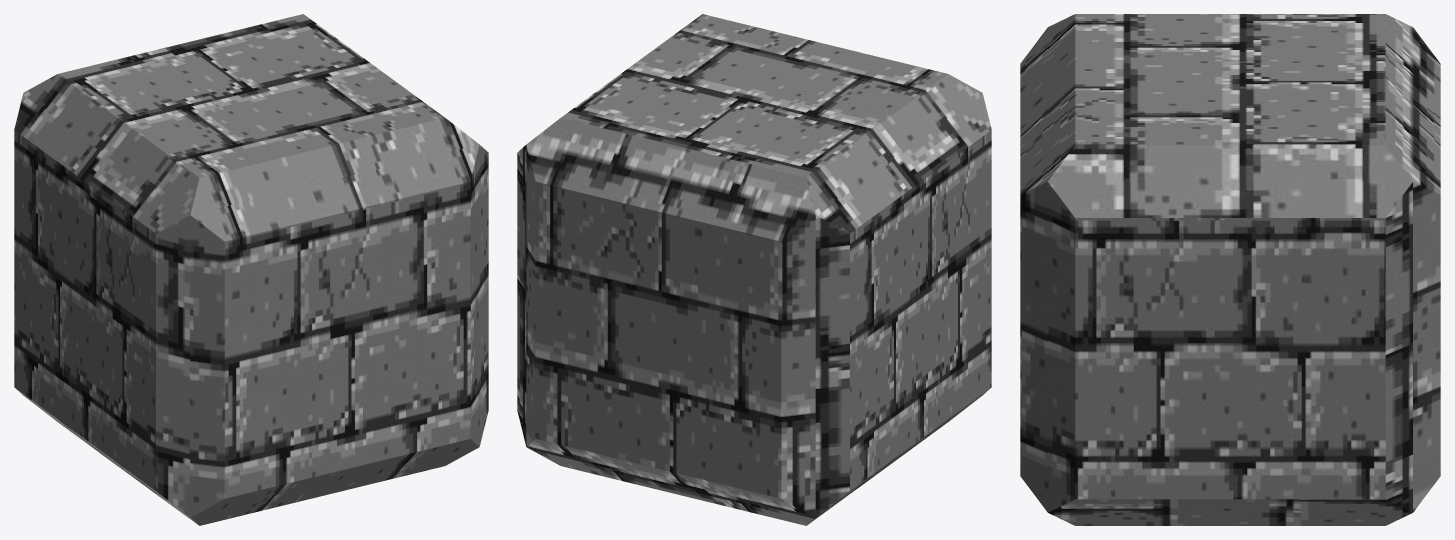
Rendered from Block_02.fbx.
The picture shows the model from 3 angles, left to right: view 1: azimuth 30°, elevation 25°; view 2: azimuth 150°, elevation 25°; view 3: azimuth 270°, elevation 25°; orthographic projection. The views are drawn at different scales.
Visible parts, largest first — view 1: Block; view 2: Block; view 3: Block.
Boxes of the visible parts, x1=… form: Block: x1=14, y1=14, x2=488, y2=525; Block: x1=517, y1=14, x2=991, y2=525; Block: x1=1020, y1=14, x2=1440, y2=525.
Bounding box in the file's own units: 230 × 230 × 230.
